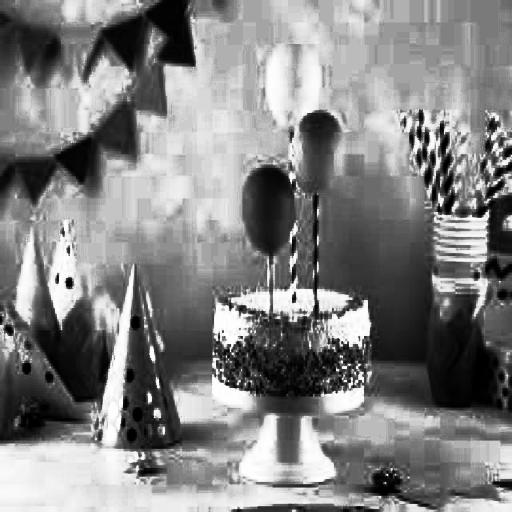balloon: (240, 165, 296, 254), (266, 39, 323, 126), (293, 110, 344, 196)
